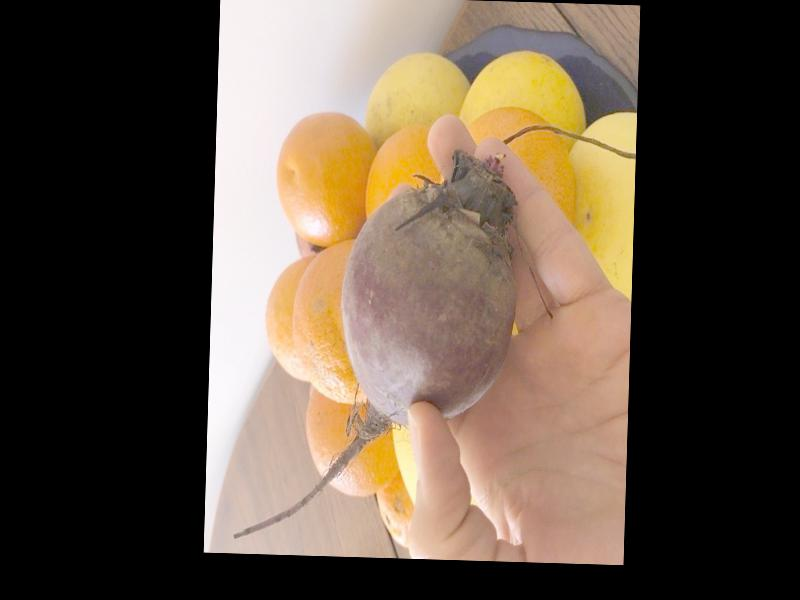Beet: (233, 149, 519, 546)
